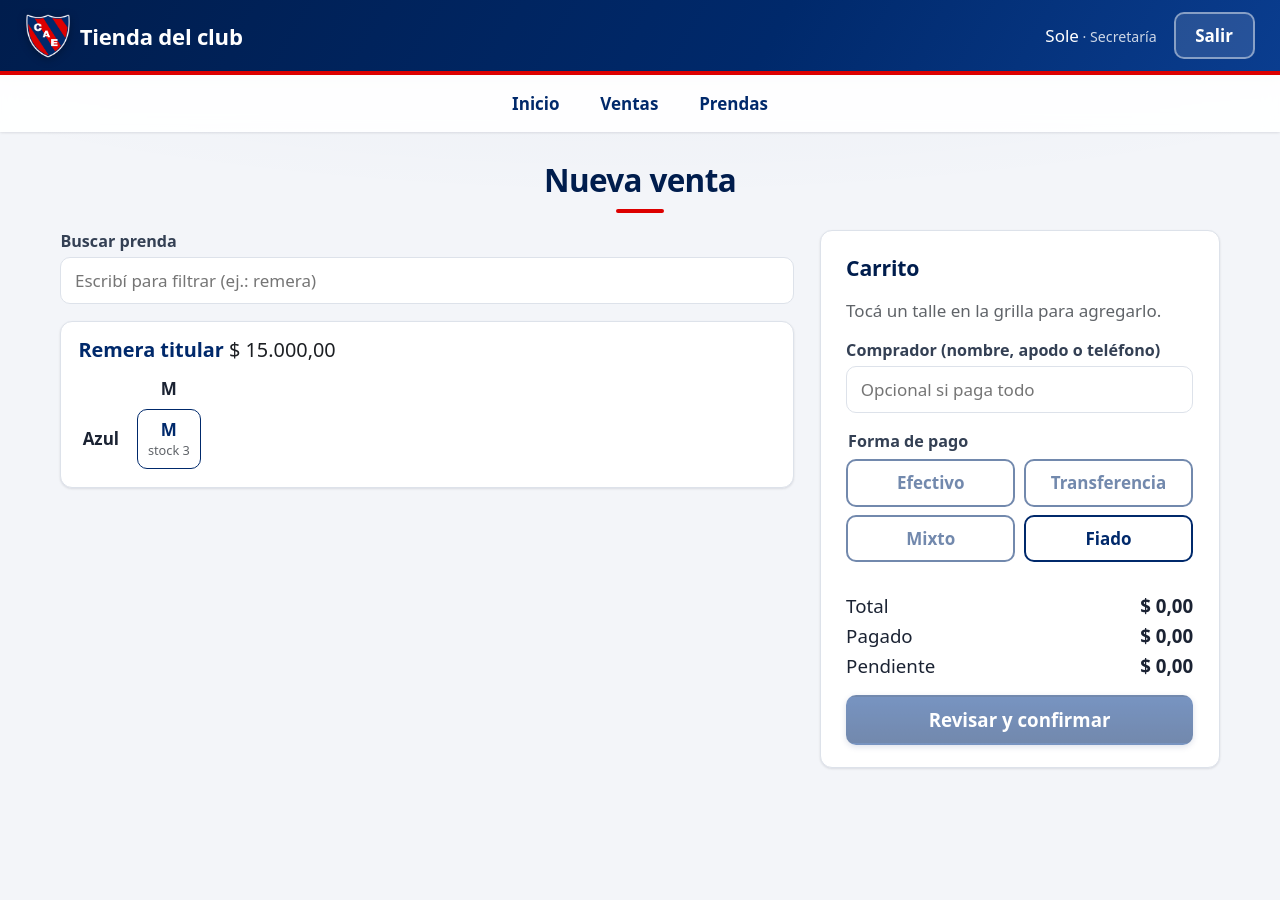
Test case: Nueva venta › no deja fiar sin comprador con teléfono; con comprador elegido sí
Later steps or results of the test are not shown.
Type "remera" into the search field labelled "Buscar prenda".
click(427, 281); type("remera")  # box [60,257,794,304]
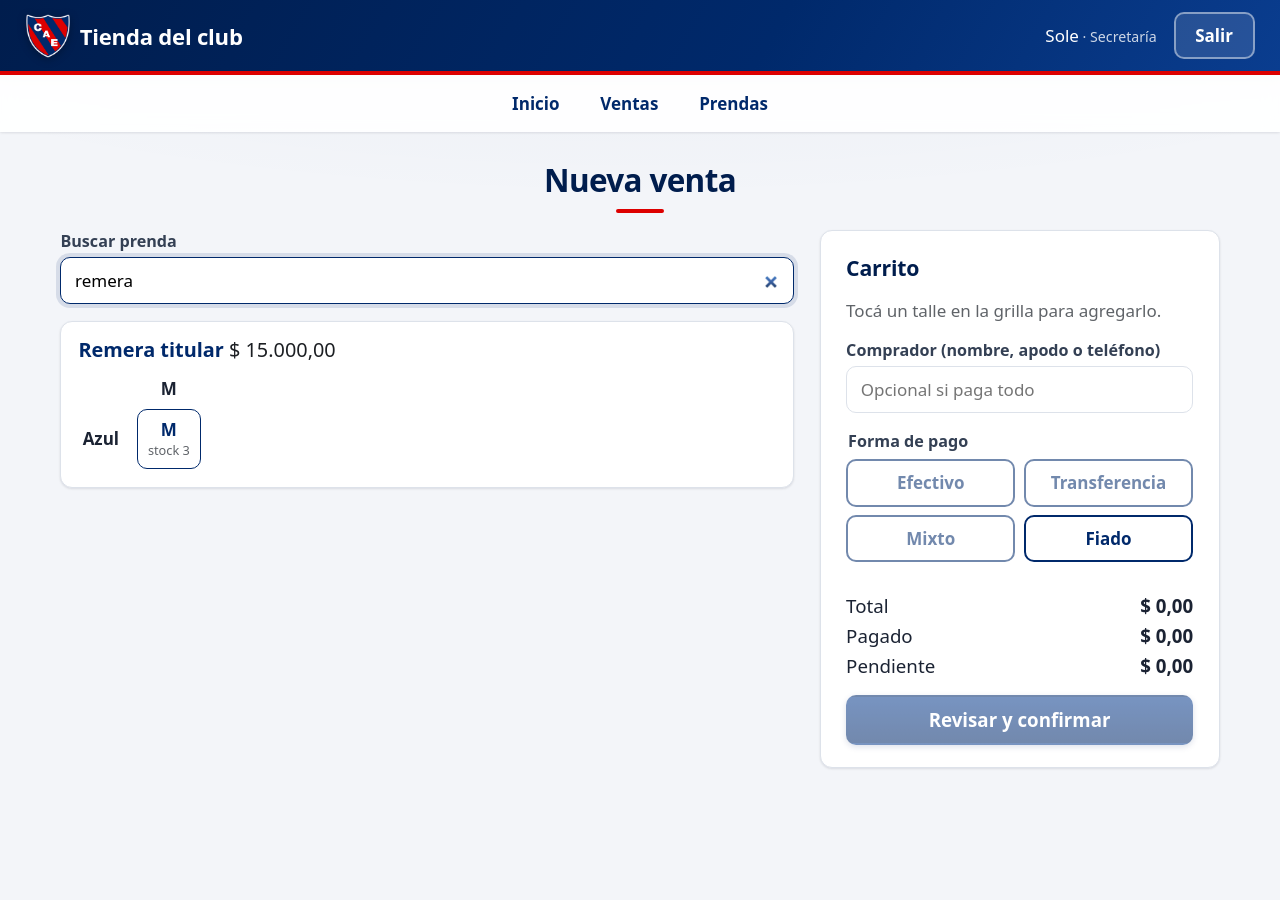
Click the button with aria-label "Azul M, stock 3".
click(169, 439)  # box [137,409,201,469]
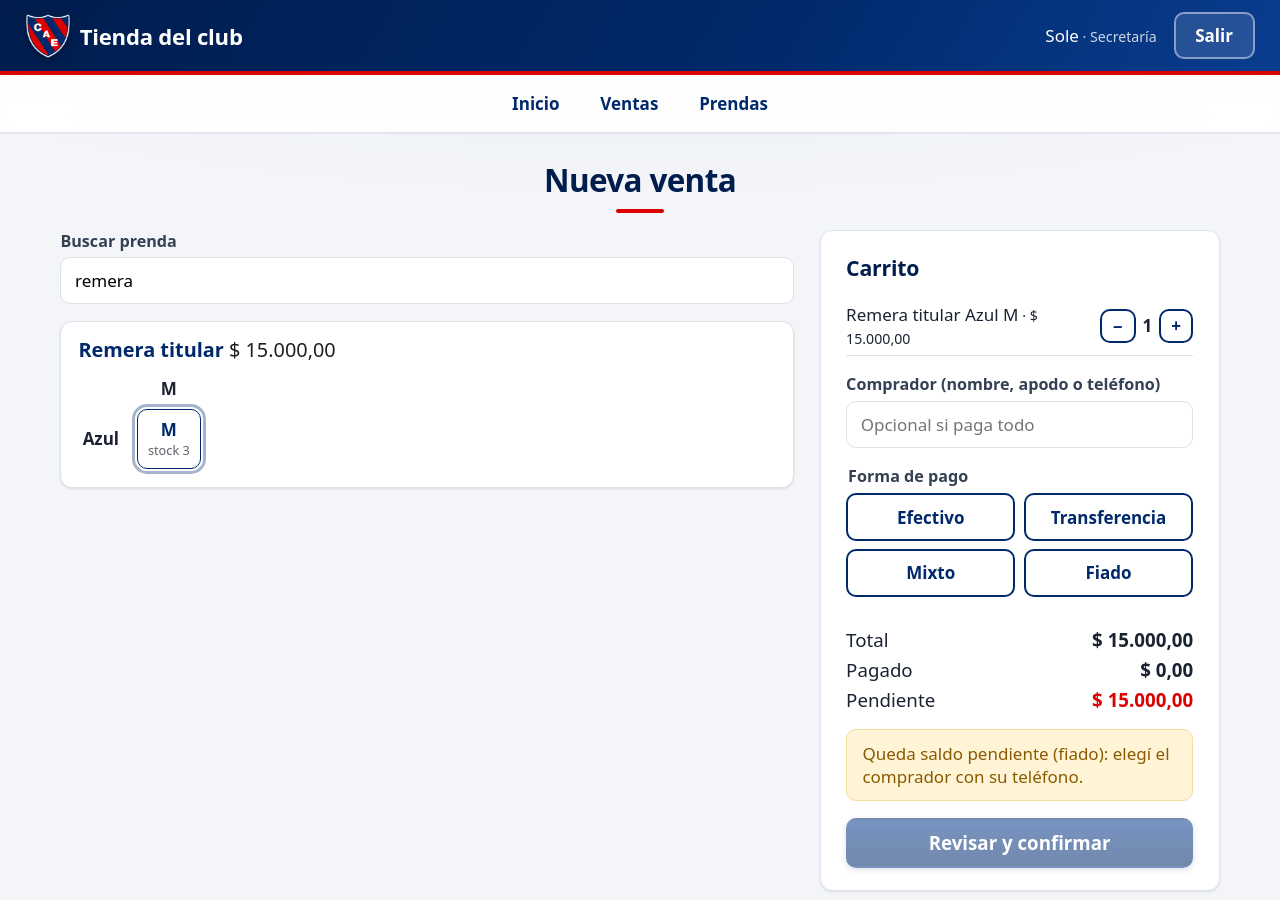
Click the button with aria-label "Azul M, stock 3".
click(169, 439)  # box [137,409,201,469]
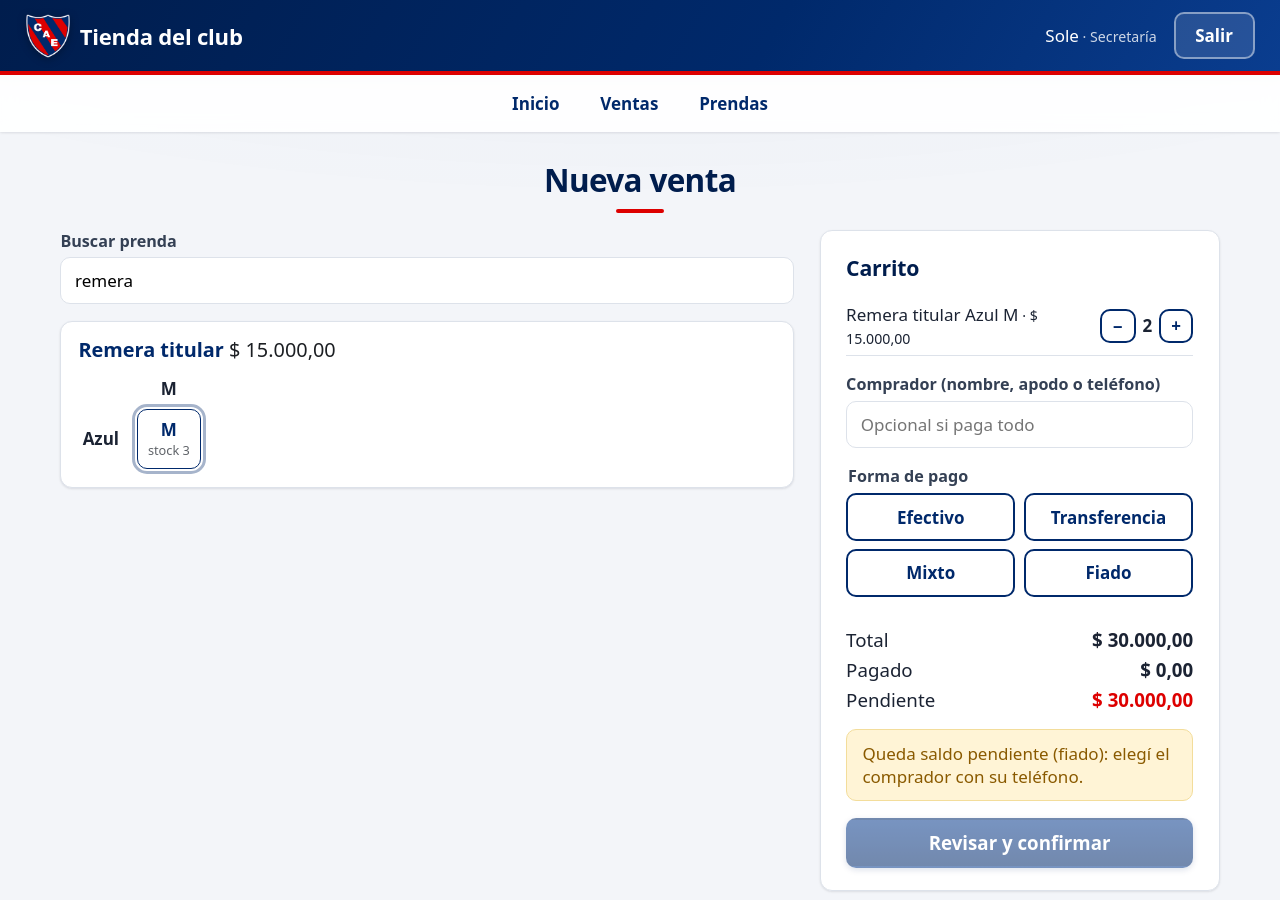
Expected: the button "Revisar y confirmar" is disabled, [846,818,1193,868]
Expected: the text "elegí el comprador con su teléfono" is shown, [862,742,1170,788]
Type "ani" into the search field labelled "Comprador (nombre, apodo o teléfono)".
click(1020, 424); type("ani")  # box [846,400,1193,448]
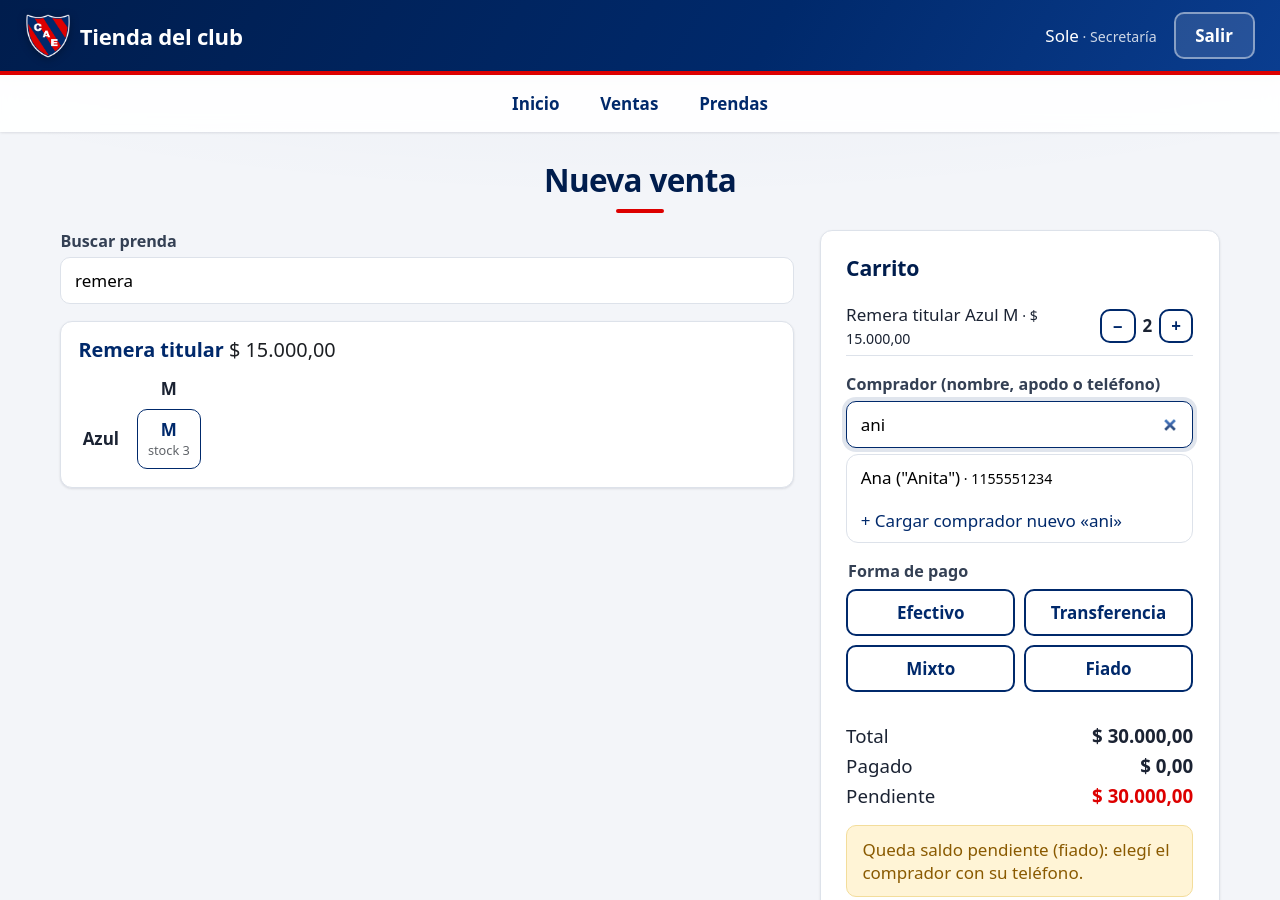
Click the button "Ana (\"Anita\") · 1155551234".
click(1020, 477)  # box [847,455,1192,499]
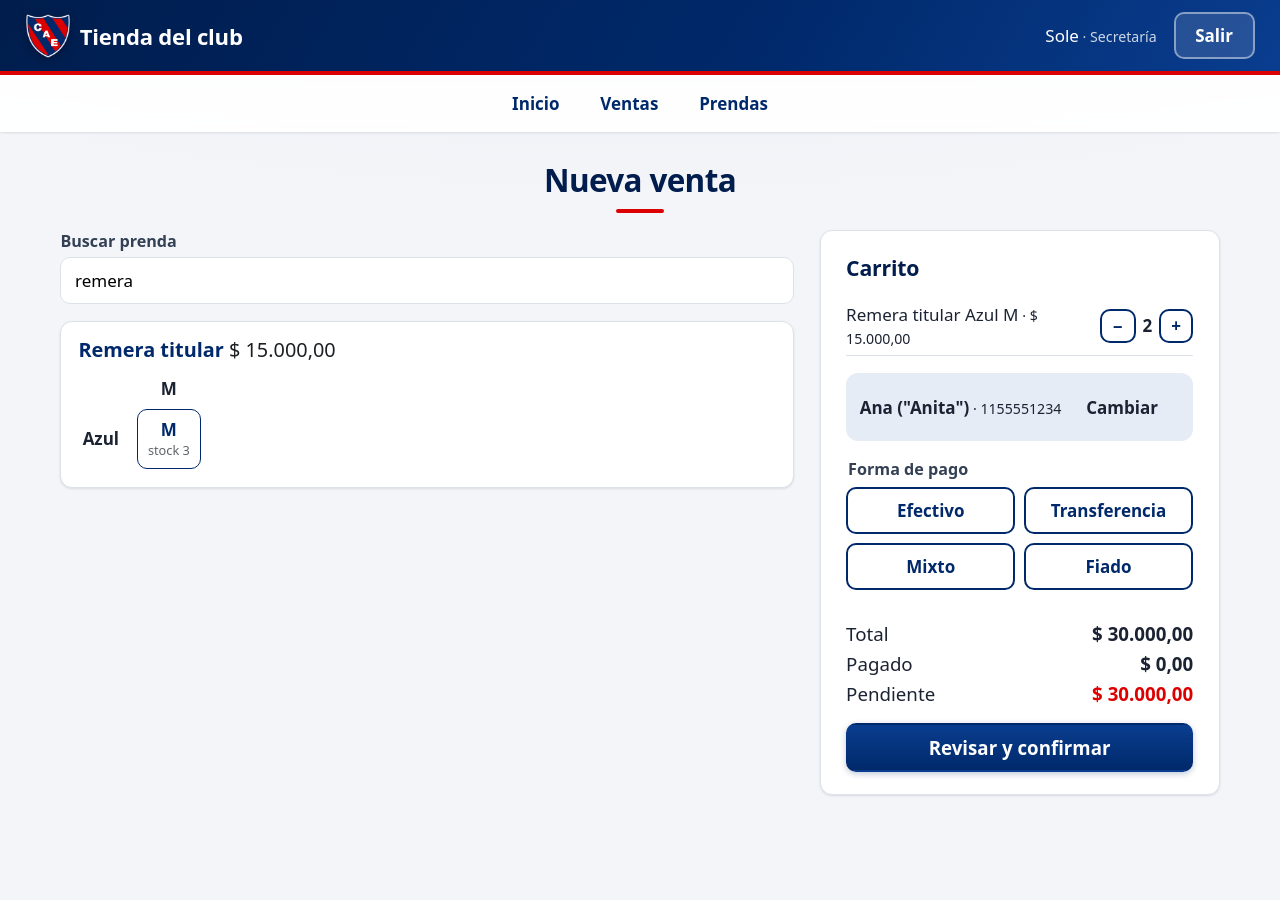
Click the button "Revisar y confirmar".
click(1020, 748)  # box [846,723,1193,772]
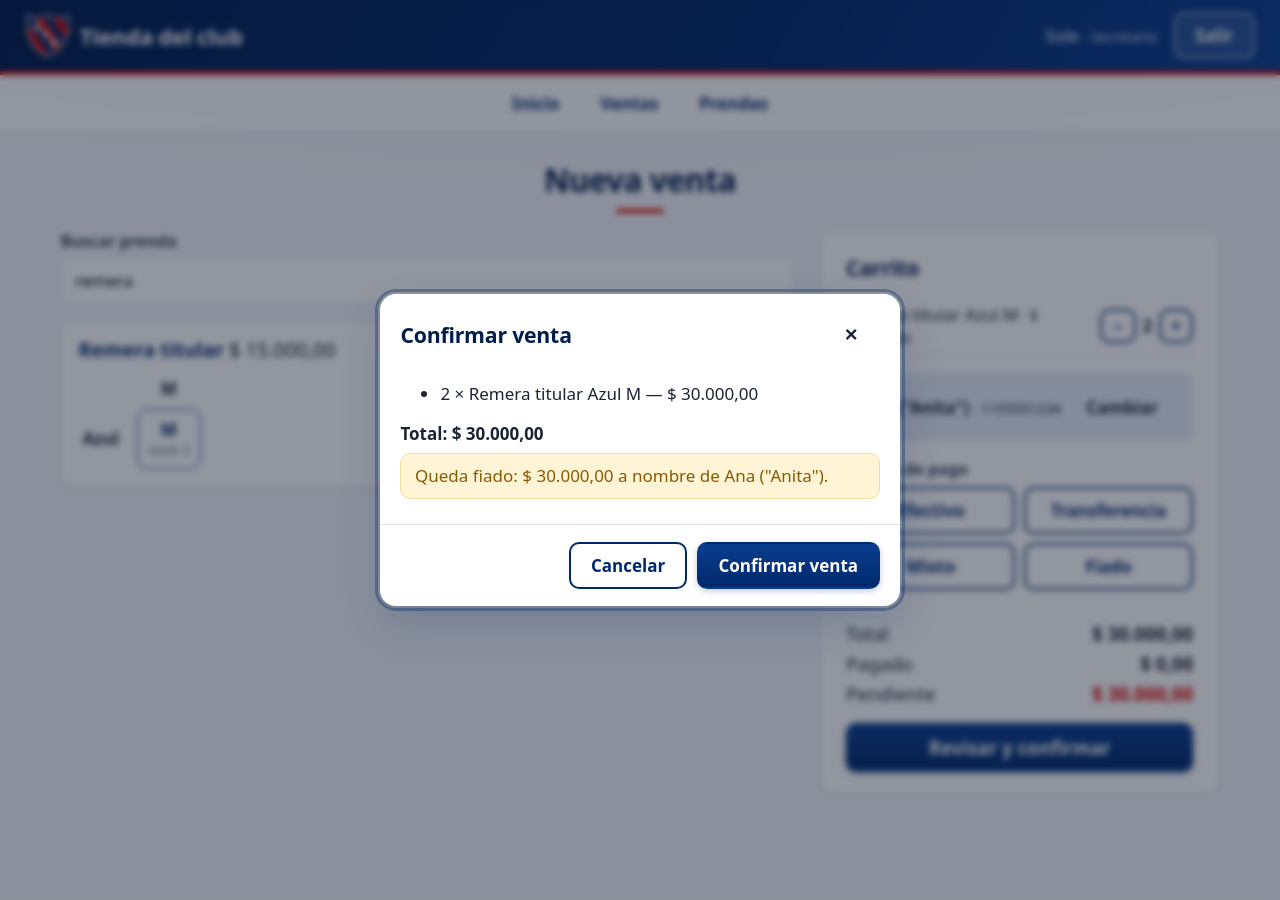
Expected: the text "Queda fiado: $ 30.000,00 a nombre de Ana (\"Anita\")." is shown, [400,453,880,499]
